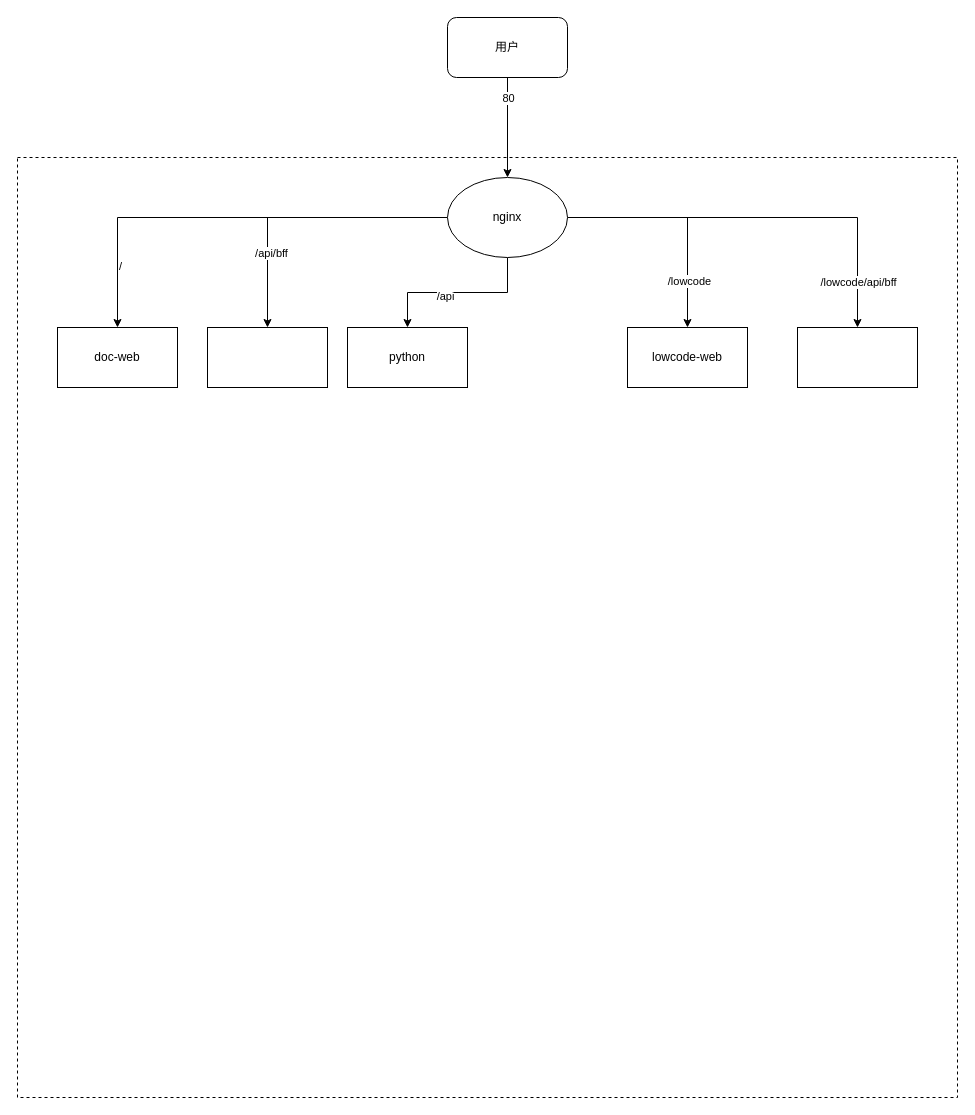
Image size: 975x1115. Some labels were removed from this diagram. The centre of each missing label's shape, as x and y in pixels:
"doc-bff" belongs at point (267, 357).
"lowcode-bff" belongs at point (857, 357).
